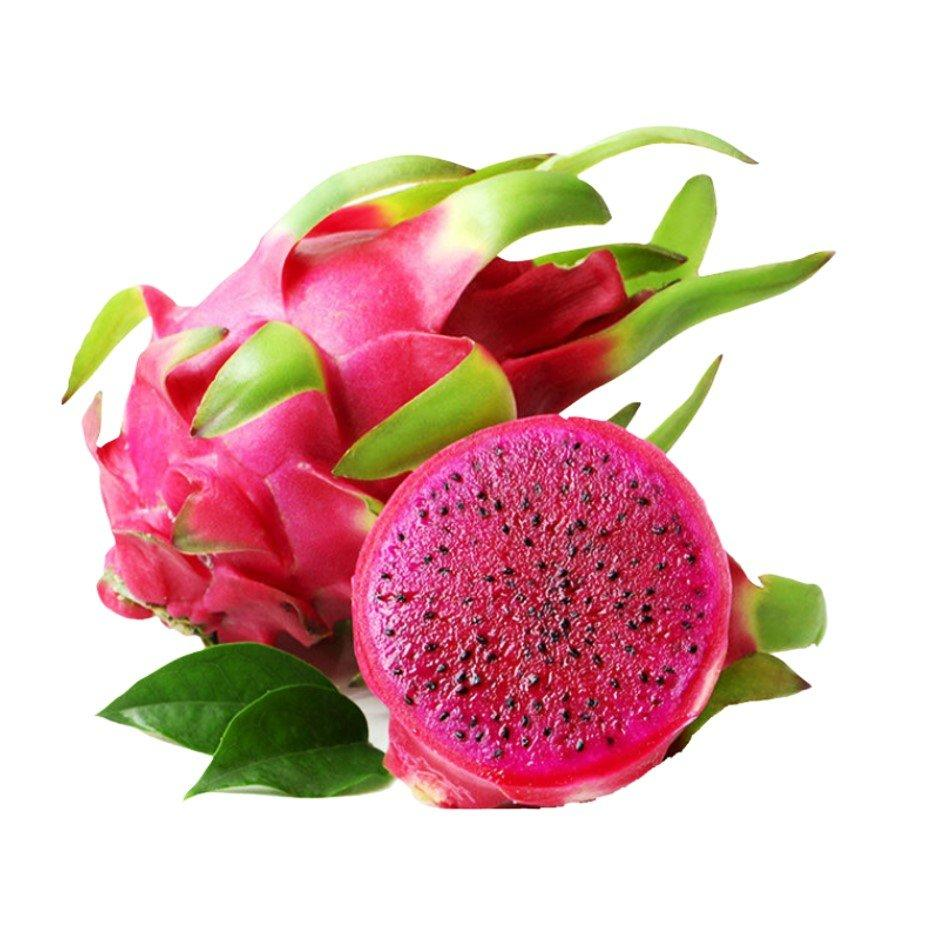dragon fruit: (62, 122, 834, 690), (347, 411, 824, 810)
